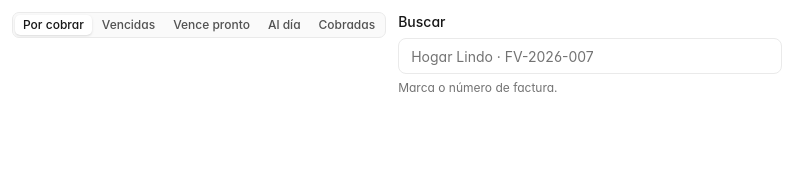
el buscador › con una o dos letras no busca y dice desde cuándo lo hará
Type "ho" into the search field labelled "Buscar" at (590, 56), box [398,38,782,74]
Wait 1000 ms
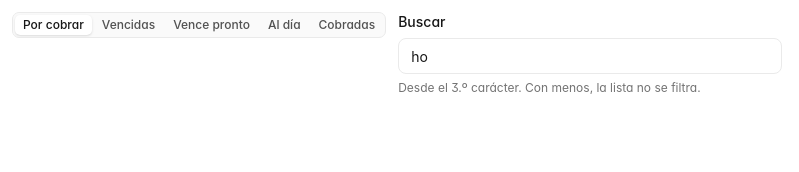
Result: the text "Desde el 3.º carácter. Con menos, la lista no se filtra." is shown at [398,80,701,95]
